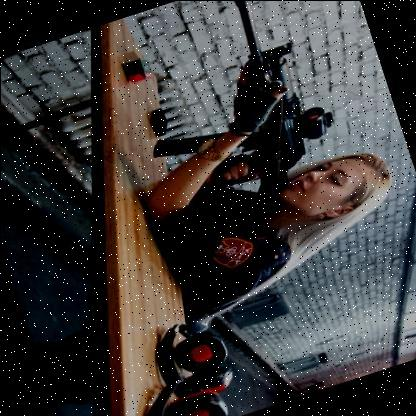rifle: (121, 0, 359, 231)
